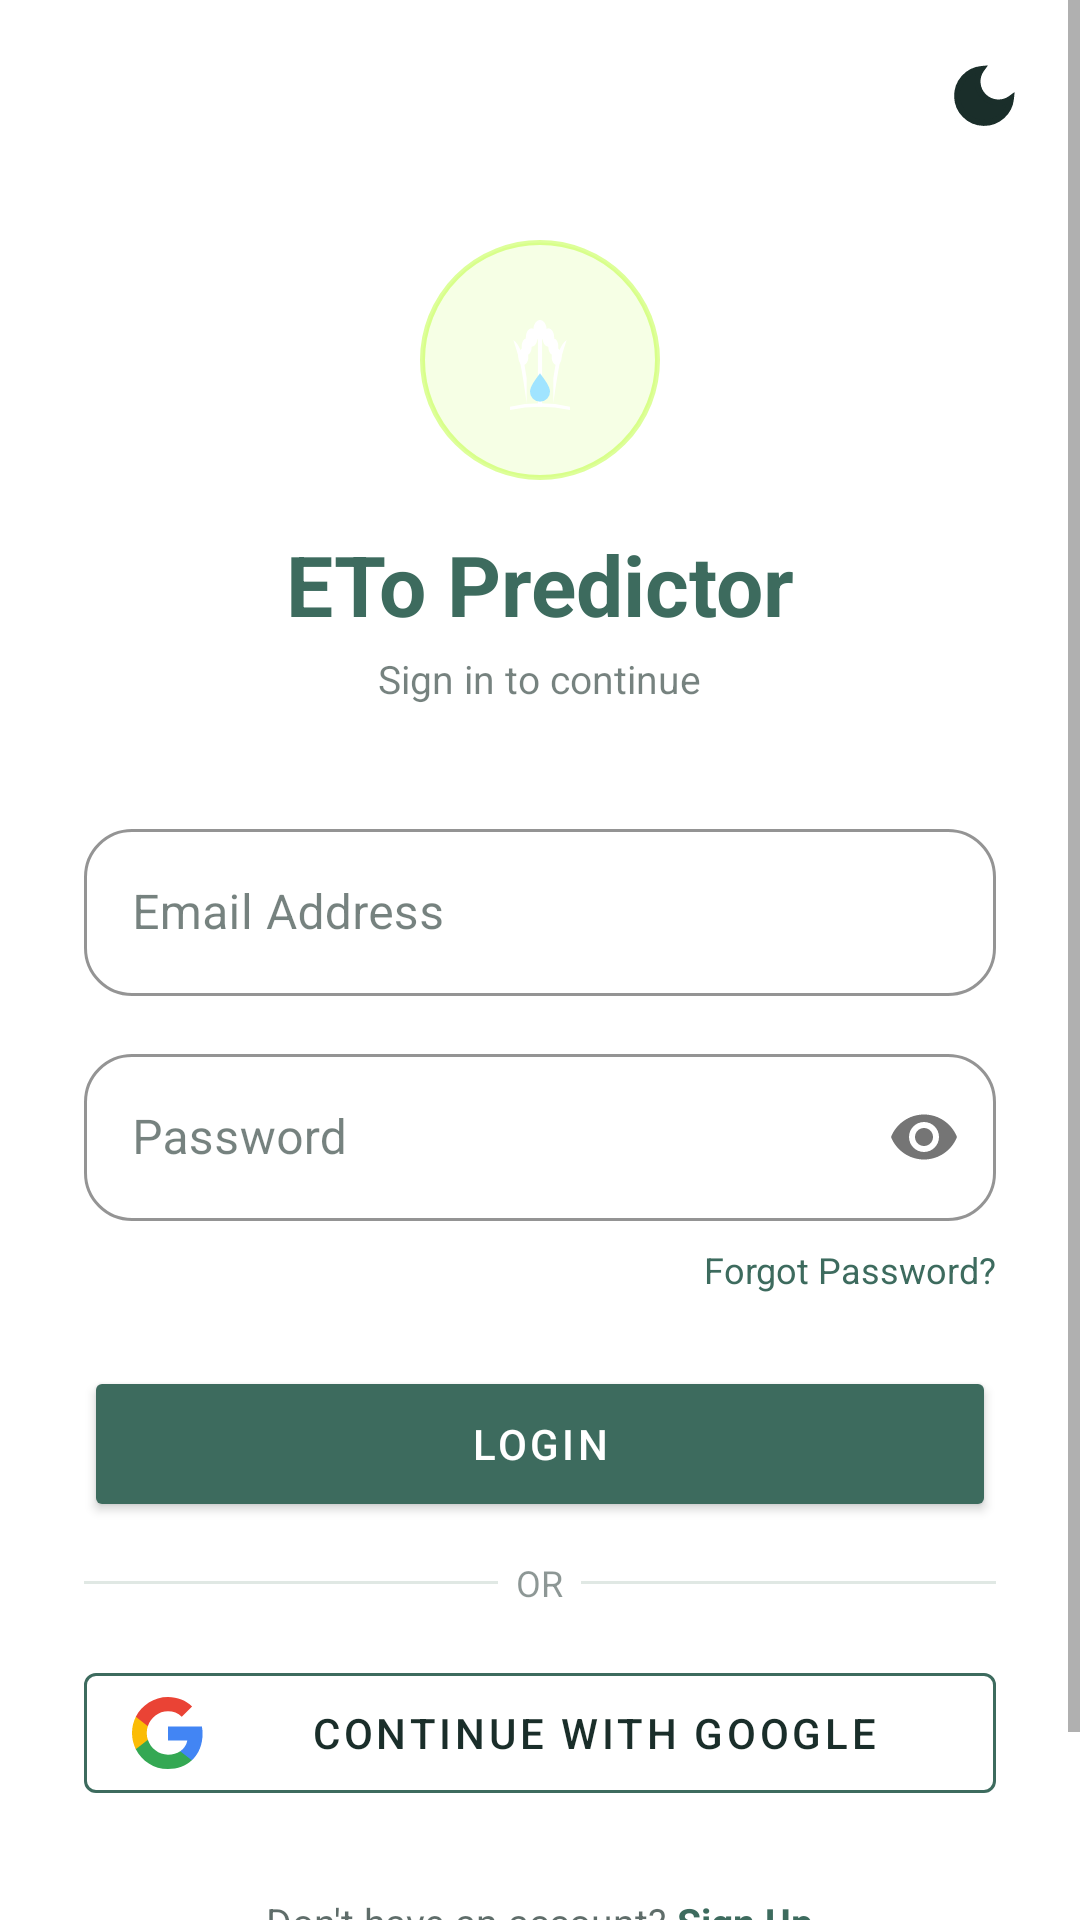

Icon bounding boxes for this 1080x1920 phone screenshot, format (x1, y1, x2, y2):
Toggle theme: (954, 65, 1015, 126)
